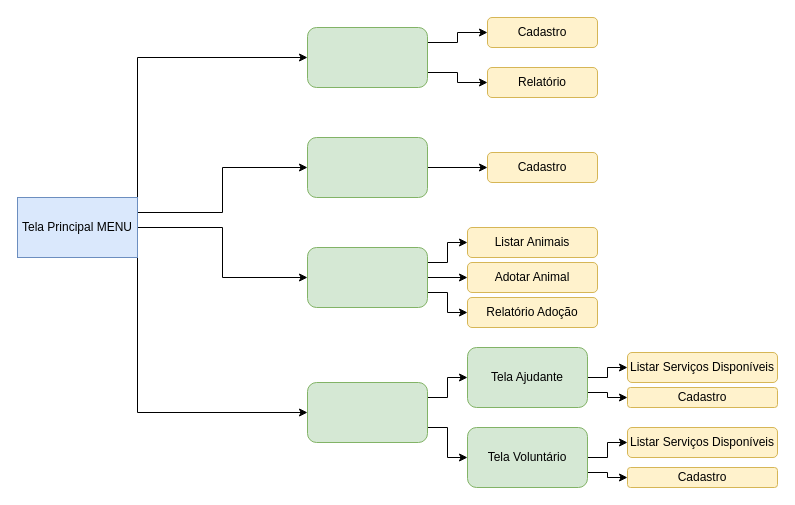
Image size: 795x505. Some labels were removed from this diagram. The centre of each missing label's shape, as x and y in pixels:
"Tela Adoção" belongs at (x=367, y=277).
"Tela Animal" belongs at (x=367, y=167).
"Tela Pessoa" belongs at (x=367, y=57).
"Tela Serviços" belongs at (x=367, y=412).
